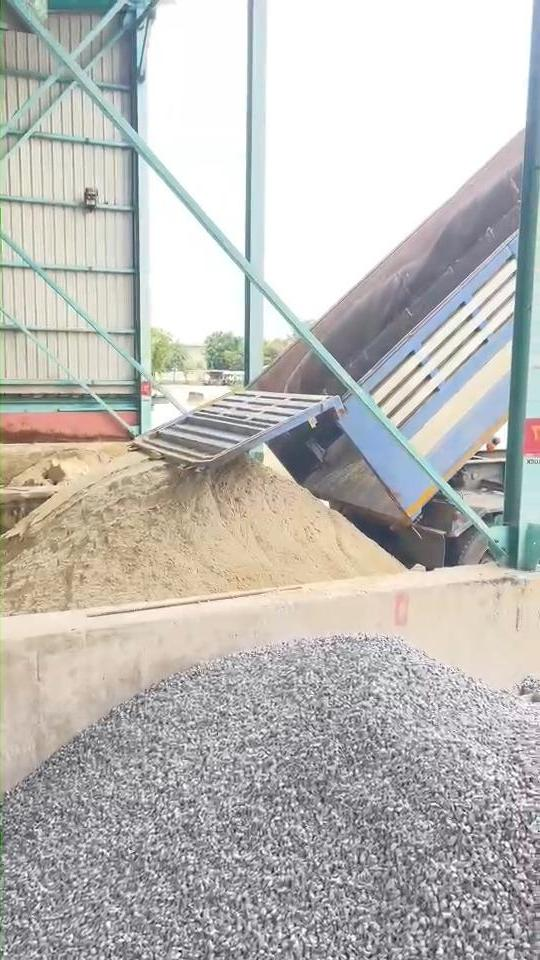gravel: (4, 637, 540, 959)
sand: (3, 454, 401, 613), (11, 449, 110, 487)
